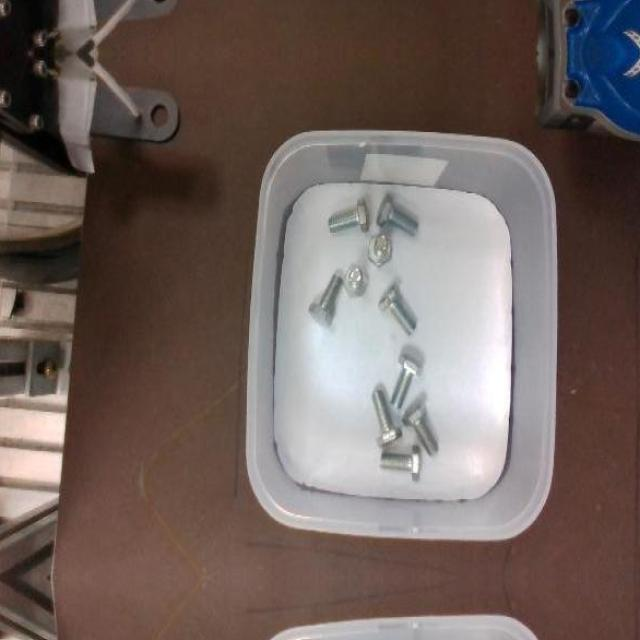screw: (378, 282, 416, 336), (401, 400, 438, 455), (308, 273, 343, 327), (376, 192, 418, 236), (390, 354, 423, 409), (370, 390, 401, 447), (379, 445, 420, 481), (328, 196, 369, 232), (343, 264, 368, 296), (368, 231, 391, 265)
